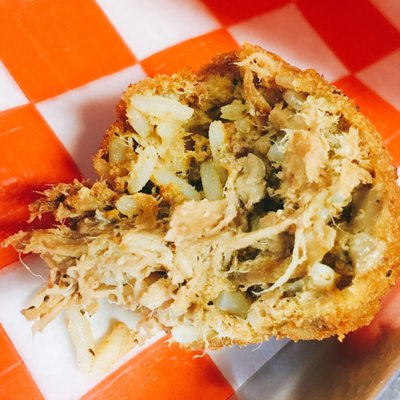curry: (0, 0, 400, 370)
sandwich: (4, 35, 400, 398)
